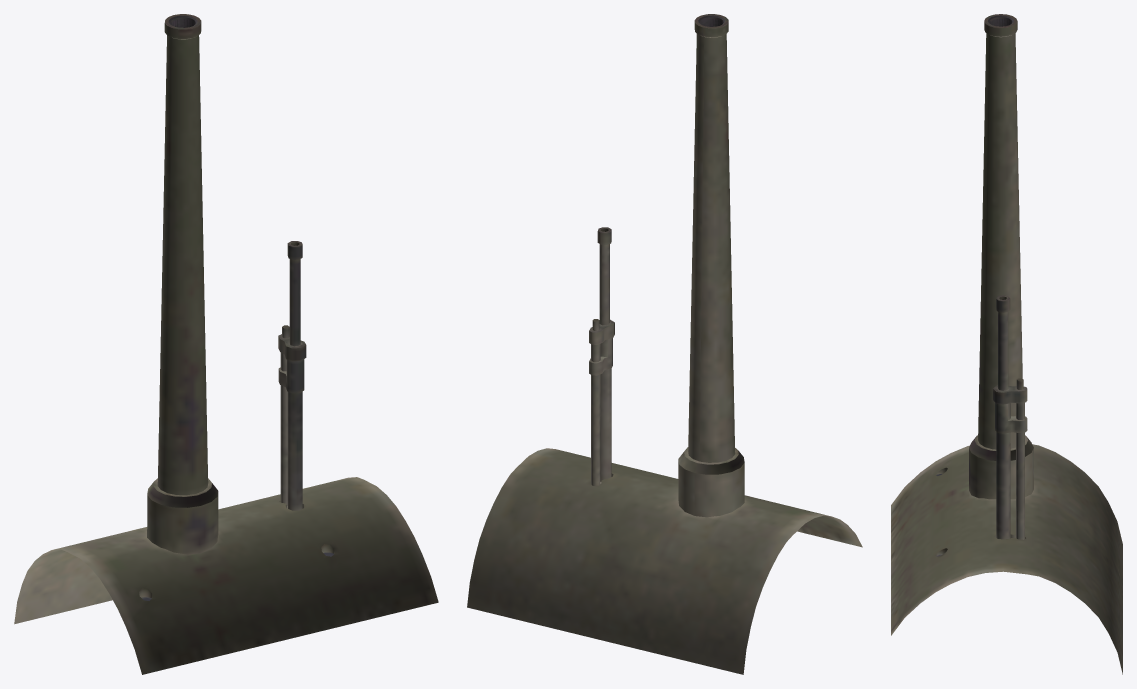
The model's file is Gun_08.glb.
3 renders of one model, left to right at view 1: azimuth 30°, elevation 25°; view 2: azimuth 150°, elevation 25°; view 3: azimuth 270°, elevation 25°, orthographic. The views are drawn at different scales.
Parts seen in each view (by area): view 1: set_0_group_0; view 2: set_0_group_0; view 3: set_0_group_0.
Part boxes in pixels (bbox=[...]): set_0_group_0: bbox=[14, 14, 438, 674]; set_0_group_0: bbox=[467, 14, 862, 674]; set_0_group_0: bbox=[891, 14, 1122, 674].
Size of the model in its own units: 0.4928 by 0.9955 by 0.3682.
Materials: 1 (1 with a texture image).
